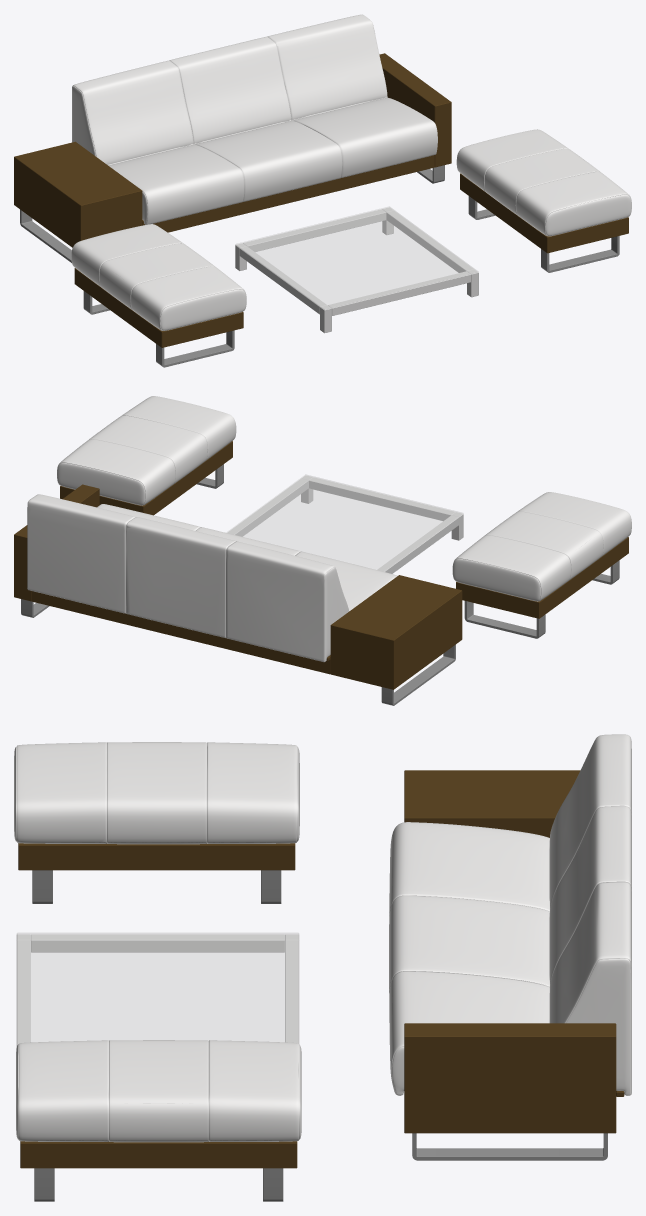
The model's file is chair .fbx.
3 views of the same model, one above another, from view 1: azimuth 30°, elevation 25°; view 2: azimuth 150°, elevation 25°; view 3: azimuth 270°, elevation 25° (orthographic). The views are drawn at different scales.
Parts seen in each view (by area): view 1: chair; view 2: chair; view 3: chair.
Boxes of the visible parts, box(x1,y1,x2,y2) form: chair: box(14, 14, 631, 367); chair: box(14, 396, 631, 705); chair: box(14, 734, 631, 1201).
Size of the model in its own units: 307 by 76.1 by 219.
9 materials, 6 textured.
